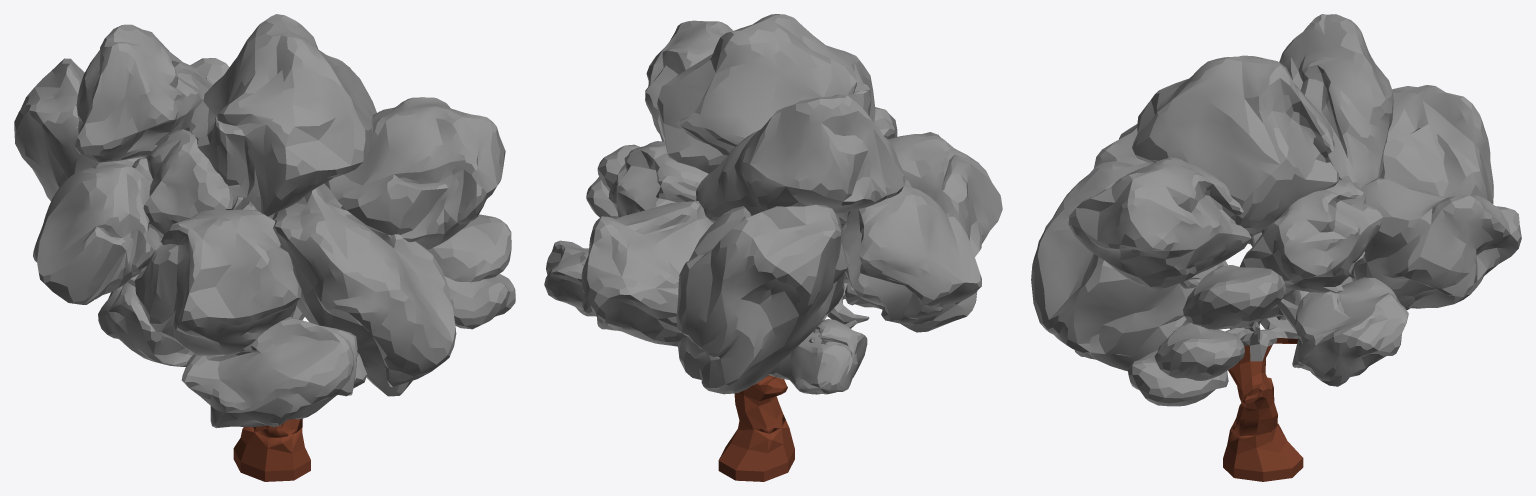
The model's file is SnowyTree.fbx.
The picture shows the model from 3 angles, left to right: view 1: azimuth 30°, elevation 25°; view 2: azimuth 150°, elevation 25°; view 3: azimuth 270°, elevation 25°; orthographic projection. The views are drawn at different scales.
Visible parts, largest first — view 1: Tree.001 HP.004, Tree.001 HP.001; view 2: Tree.001 HP.004, Tree.001 HP.001; view 3: Tree.001 HP.004, Tree.001 HP.001.
Part boxes in pixels (x1=…): Tree.001 HP.004: x1=14, y1=14, x2=515, y2=437; Tree.001 HP.001: x1=233, y1=427, x2=310, y2=481; Tree.001 HP.004: x1=544, y1=14, x2=1002, y2=433; Tree.001 HP.001: x1=718, y1=420, x2=794, y2=481; Tree.001 HP.004: x1=1031, y1=14, x2=1521, y2=435; Tree.001 HP.001: x1=1223, y1=423, x2=1303, y2=481.
Bounding box in the file's own units: 2856 × 2818 × 3061.
